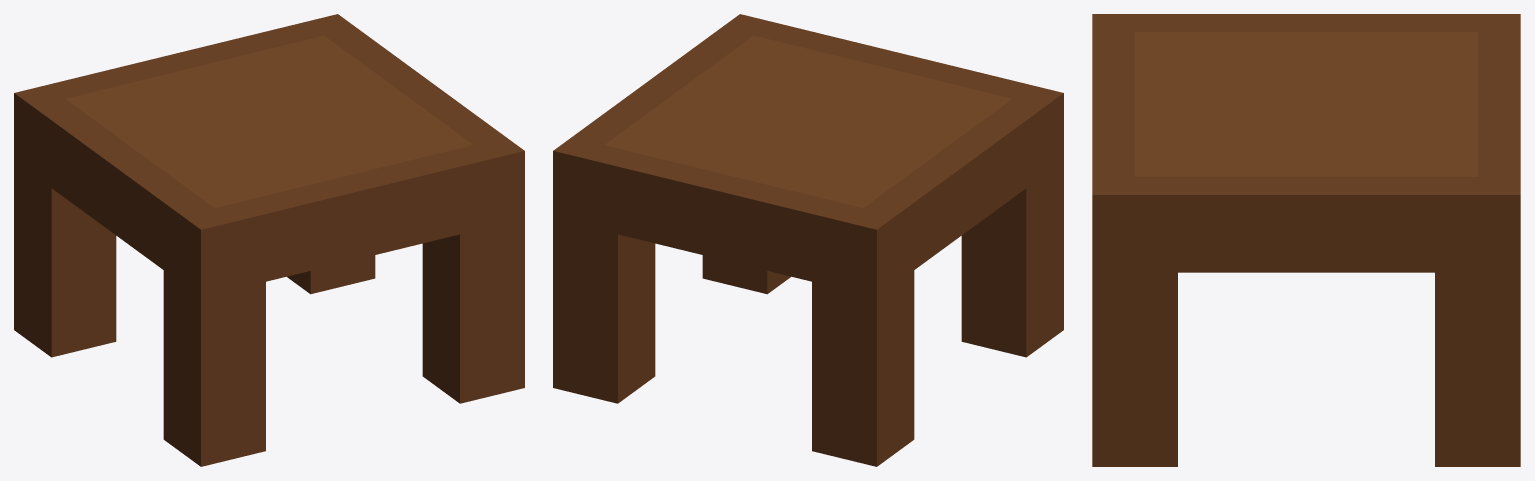
The model's file is stool_wood.dae.
3 views of the same model, side by side, from view 1: azimuth 30°, elevation 25°; view 2: azimuth 150°, elevation 25°; view 3: azimuth 270°, elevation 25° (orthographic). The views are drawn at different scales.
Visible parts, largest first — view 1: PlaneCOL; view 2: PlaneCOL; view 3: PlaneCOL.
Boxes of the visible parts, <box> form: PlaneCOL: <box>14,14,524,466</box>; PlaneCOL: <box>553,14,1063,466</box>; PlaneCOL: <box>1092,14,1520,466</box>.
Size of the model in its own units: 1 by 1 by 0.7.
